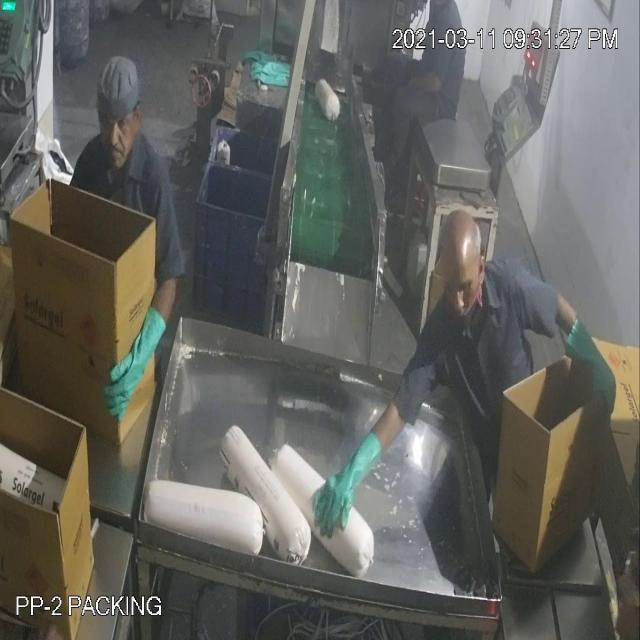Gloves: (55, 112, 590, 490)
